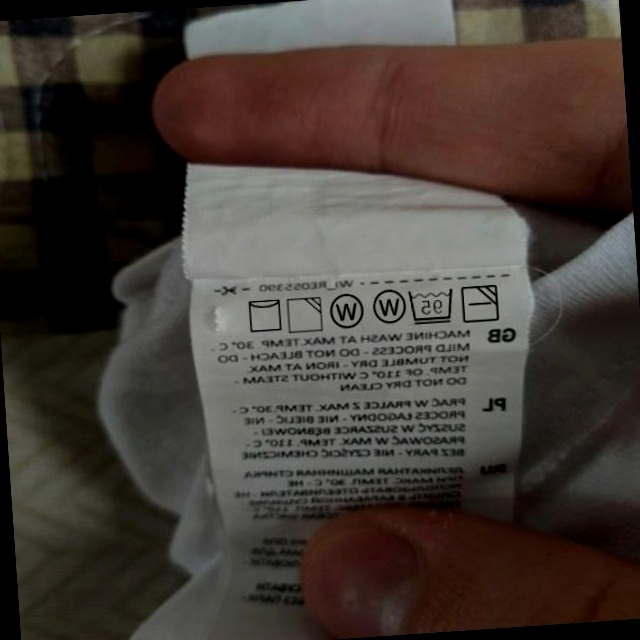95C: (406, 285, 457, 326)
dry_flat_in_shade: (460, 281, 502, 325)
line_dry: (243, 295, 285, 335)
shade_dry: (284, 294, 325, 335)
wet_clean: (327, 291, 366, 332), (369, 284, 406, 327)
